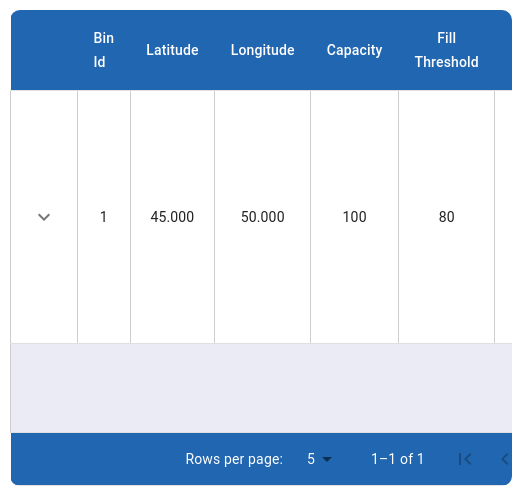
History Table Component › expands and collapases rows when clicking on the expand button
This screenshot has width=529, height=503.
# Click on the expand button to open the details row
Click the button named "expand row" at (44, 217), box x1=27 y1=200 x2=61 y2=234
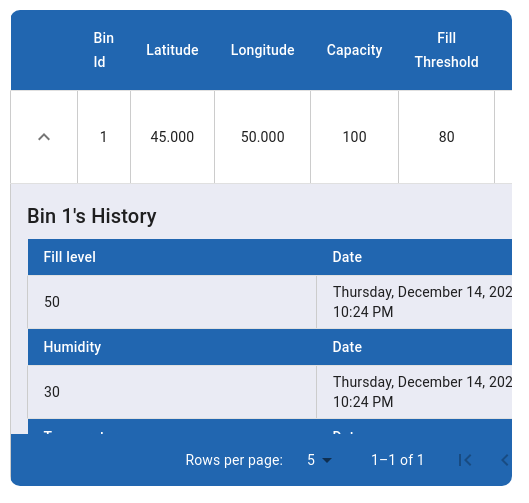
Expected: the text "Bin 1's History" is shown, x1=27 y1=204 x2=157 y2=228
# Click again to collapse the details row
Click the button named "expand row" at (44, 137), box x1=27 y1=120 x2=61 y2=154
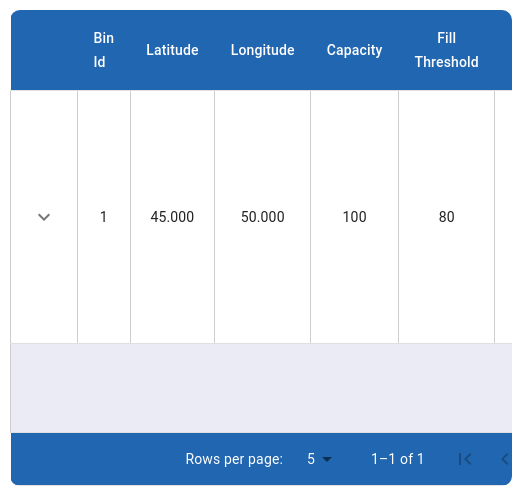
Expected: the text "Bin 1's History" is gone
